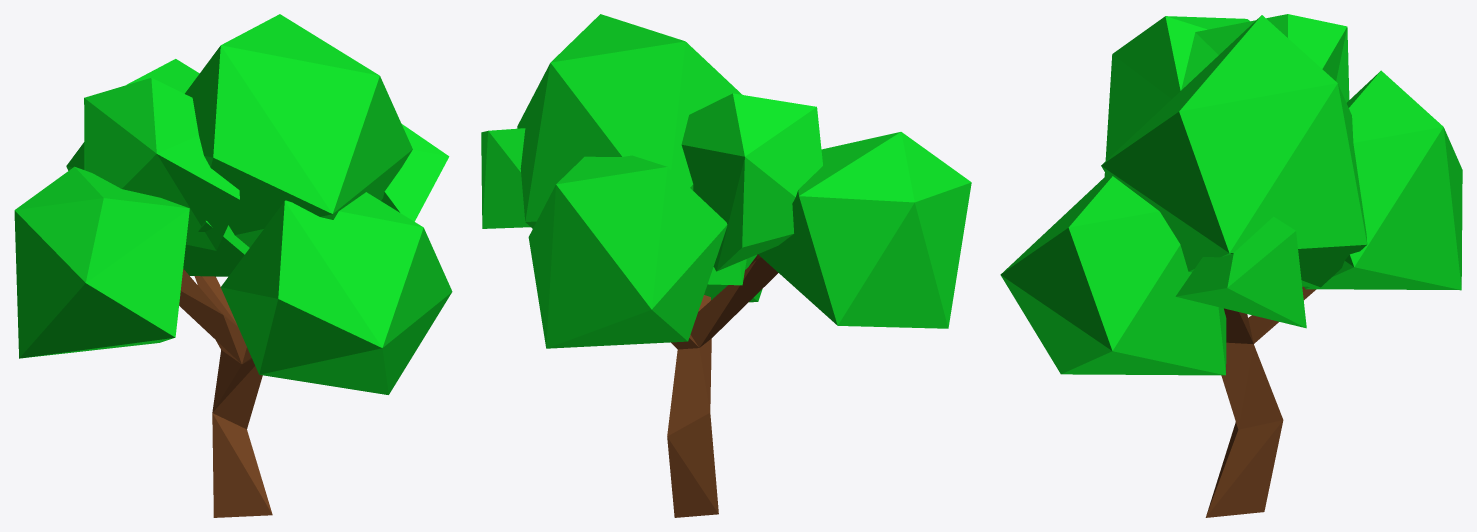
The model's file is tree.fbx.
3 renders of one model, left to right at view 1: azimuth 30°, elevation 25°; view 2: azimuth 150°, elevation 25°; view 3: azimuth 270°, elevation 25°, orthographic. The views are drawn at different scales.
Visible parts, largest first — view 1: Plane; view 2: Plane; view 3: Plane.
Part boxes in pixels (box(x1,y1,x2,y2)): Plane: box(14, 14, 452, 517); Plane: box(481, 14, 971, 517); Plane: box(1000, 14, 1462, 517).
Size of the model in its own units: 905 by 903 by 769.
